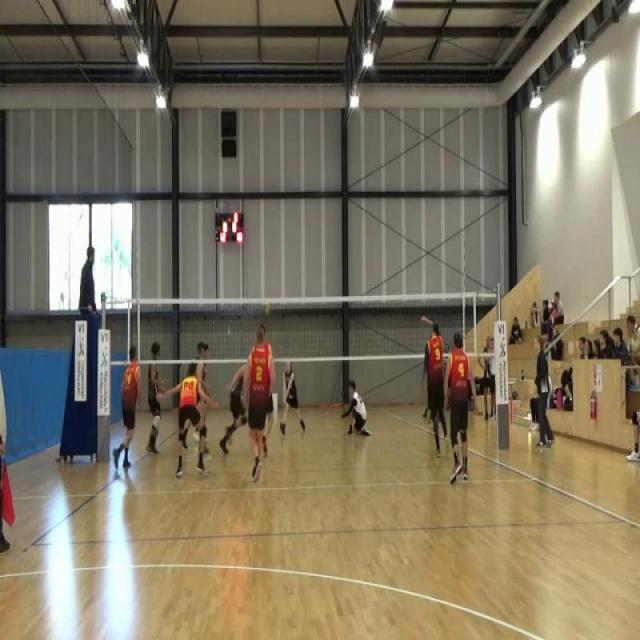volleyball: (264, 301, 272, 317)
